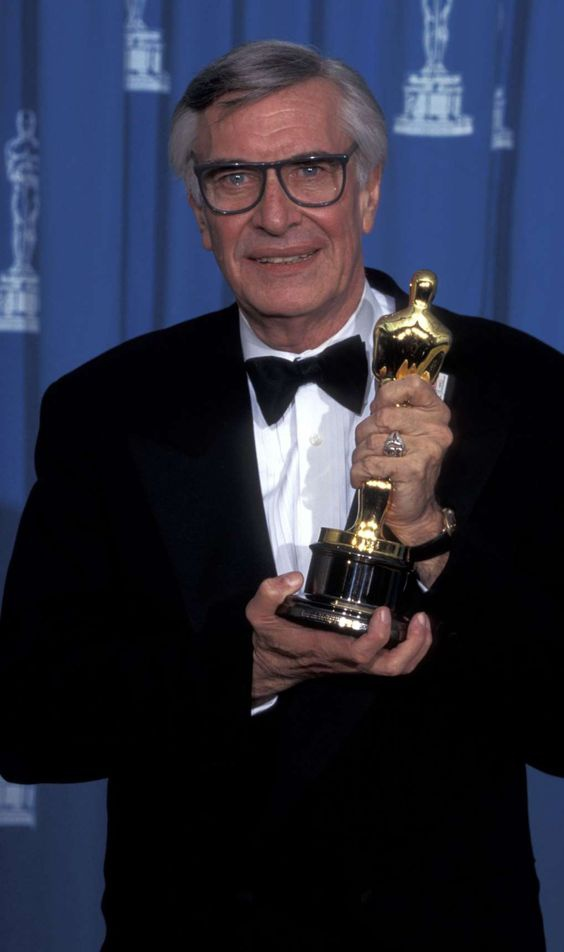hand: (358, 385, 446, 540)
